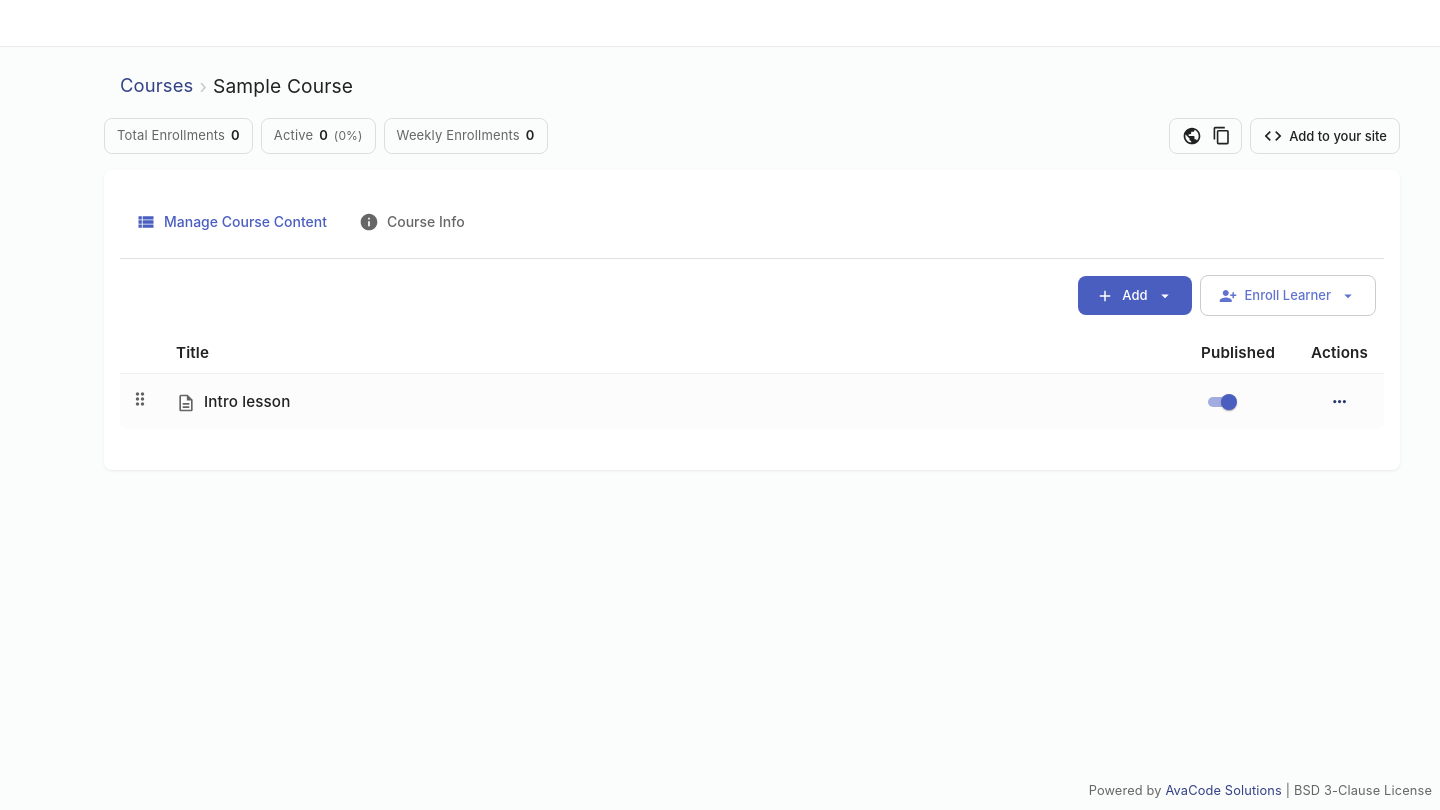
Course › "Add to your site" embed button › closes the dialog when Close is clicked
Click the button "Add to your site" at [1325, 136], box top-left (1250, 118), bottom-right (1400, 154)
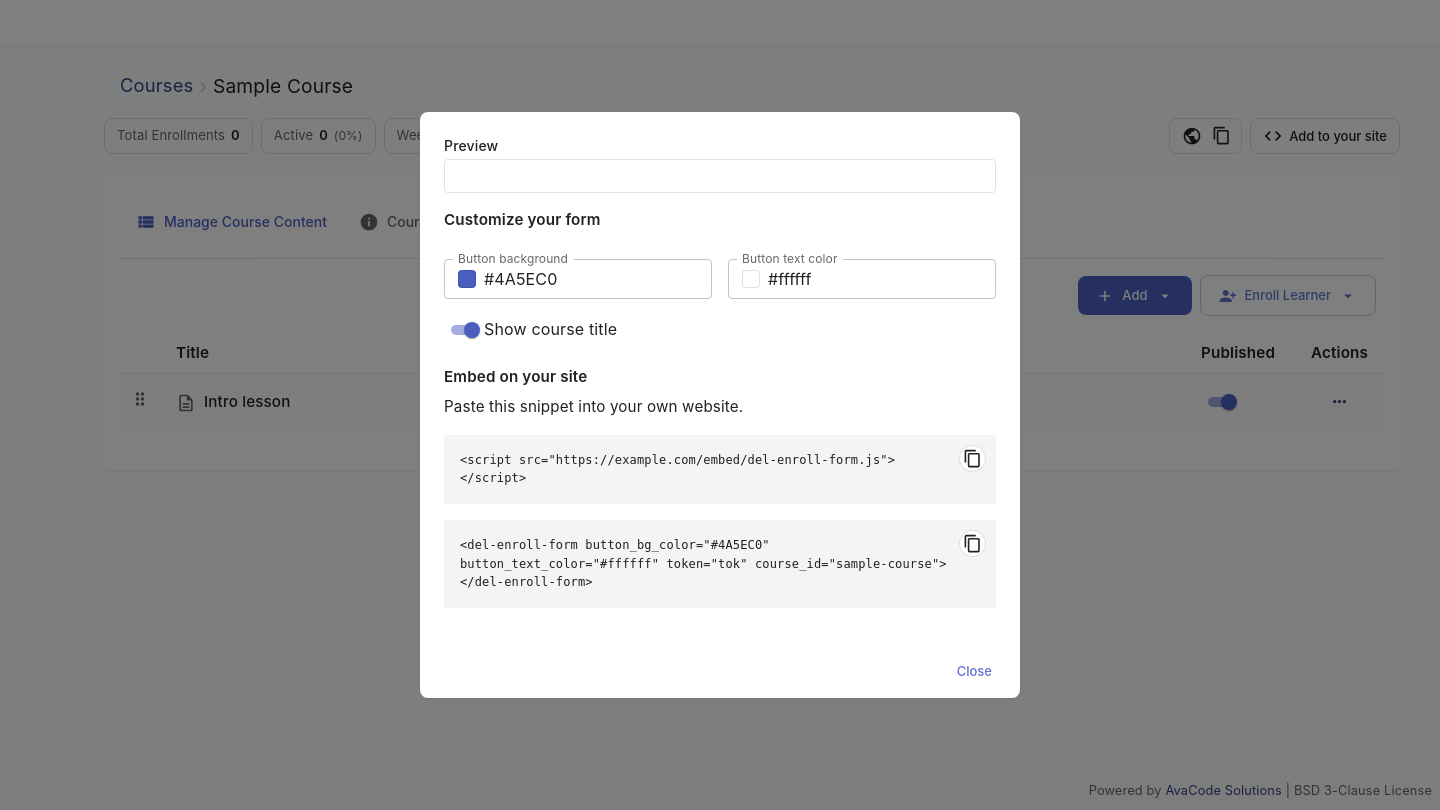
Expected: the text "<del-enroll-form button_bg_color=\"#4A5EC0\" button_text_color=\"#ffffff\" token=\"tok\" course_id=\"sample-course\"></del-enrol" is shown, top-left (460, 538), bottom-right (947, 589)
Click the button "Close" at [974, 671], box top-left (937, 652), bottom-right (1012, 690)
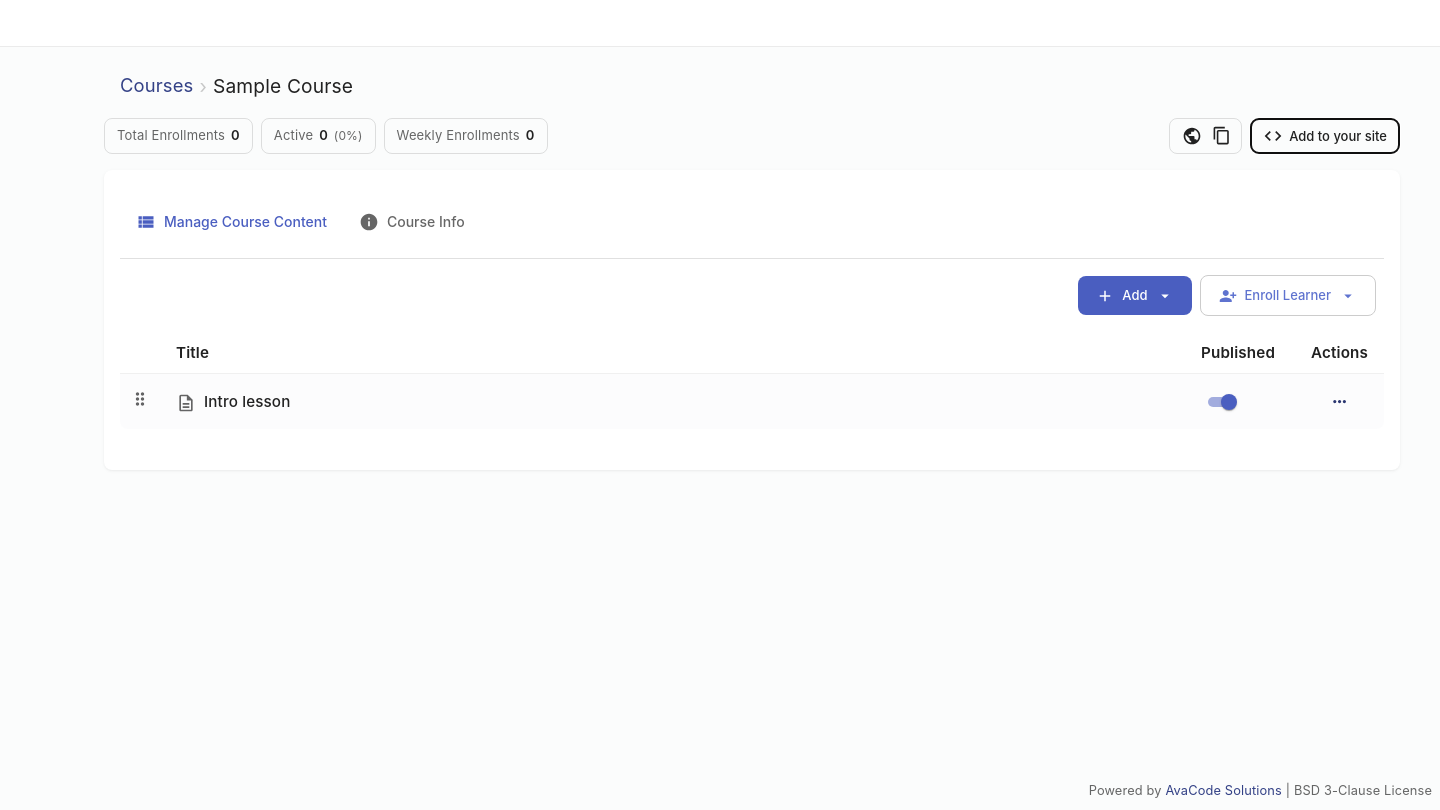
Expected: the dialog is gone
